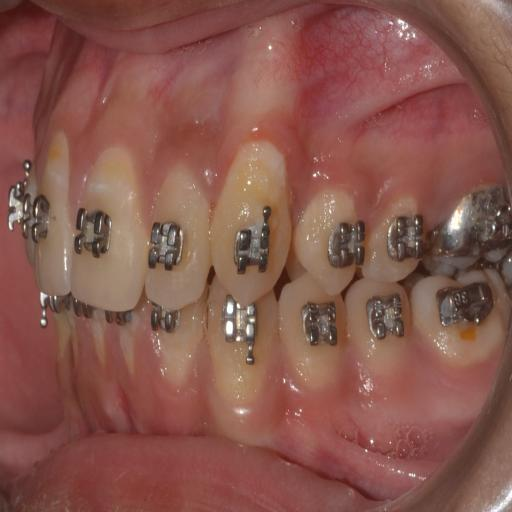correct_brace: (296, 182, 366, 294), (285, 276, 349, 390), (231, 199, 280, 285), (300, 299, 342, 367), (221, 297, 263, 364), (365, 287, 406, 352), (150, 213, 186, 280), (78, 200, 112, 270)
incorrect_brace: (148, 150, 210, 311), (326, 210, 364, 282)
